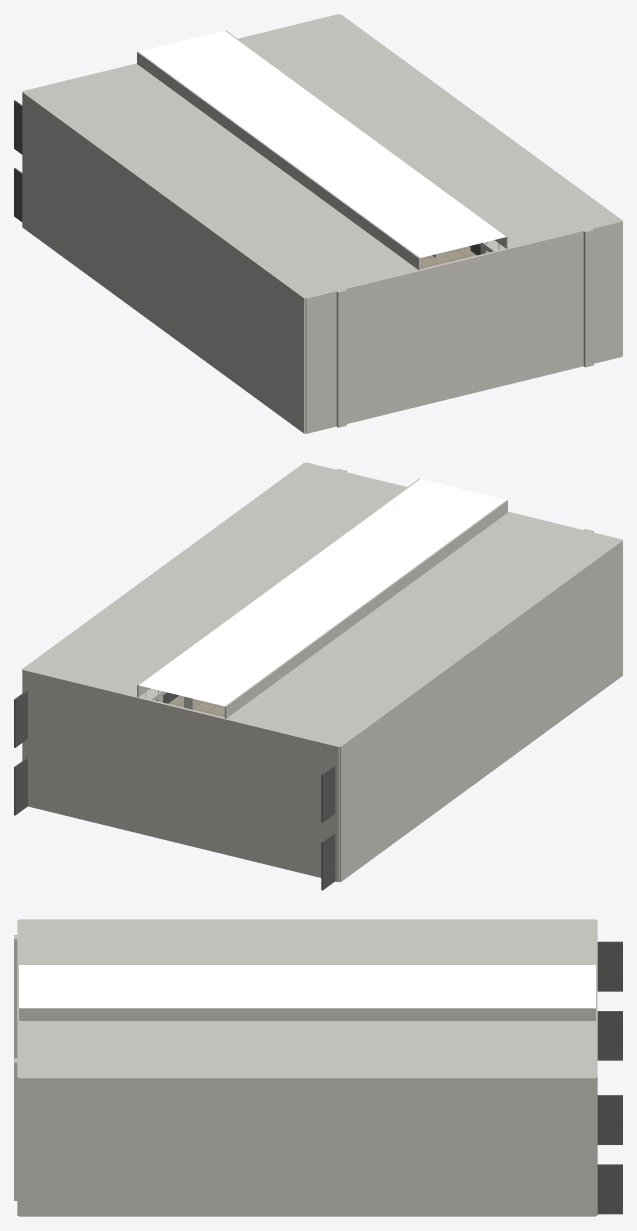
File: mall.glb
3 views of the same model, one above another, from view 1: azimuth 30°, elevation 25°; view 2: azimuth 150°, elevation 25°; view 3: azimuth 270°, elevation 25° (orthographic). The views are drawn at different scales.
Parts seen in each view (by area): view 1: structure, ceiling, skylight, shutters, floor; view 2: structure, ceiling, skylight, shutters; view 3: structure, ceiling, skylight, shutters.
Part boxes in pixels (x1,y1,x2,y2): structure: (22, 14, 622, 433); ceiling: (26, 15, 620, 297); skylight: (139, 30, 505, 257); shutters: (14, 100, 480, 255); floor: (420, 246, 476, 269); structure: (22, 462, 622, 882); ceiling: (25, 463, 618, 745); skylight: (139, 479, 506, 706); shutters: (14, 690, 335, 890); structure: (14, 919, 597, 1216); ceiling: (19, 920, 595, 1077); skylight: (19, 965, 595, 1007); shutters: (597, 941, 622, 1214).
Bounding box in the file's own units: 22.2 × 10.31 × 35.9.
18 materials, 3 textured.
